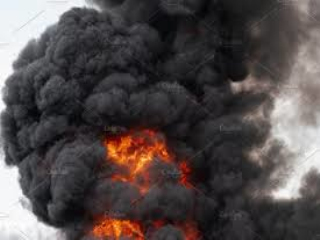smoke: (10, 8, 302, 230)
